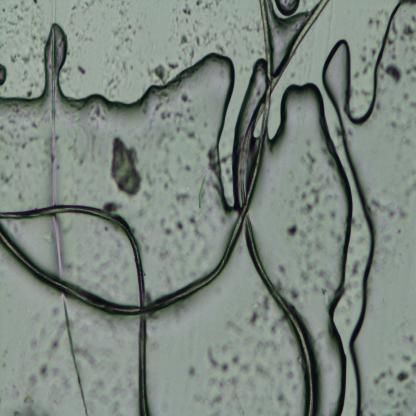Air bubble: (0, 28, 238, 212), (321, 1, 416, 416), (270, 80, 355, 328), (232, 56, 267, 132), (268, 7, 303, 51), (272, 0, 302, 17)
Background material: (233, 0, 332, 415), (107, 132, 143, 199), (114, 3, 142, 68), (297, 238, 324, 282), (92, 378, 128, 409), (145, 54, 185, 81), (206, 373, 238, 400), (101, 314, 127, 347), (46, 322, 67, 360), (250, 293, 271, 331), (22, 372, 39, 416), (52, 364, 72, 400), (300, 211, 325, 238), (371, 196, 396, 220), (179, 31, 202, 57), (252, 336, 275, 359), (64, 262, 88, 284), (75, 346, 98, 368), (219, 151, 233, 186), (318, 268, 336, 295), (301, 186, 320, 211), (298, 149, 316, 174), (70, 120, 82, 156), (198, 174, 210, 208), (207, 148, 219, 181), (153, 244, 173, 262), (385, 62, 401, 84), (21, 46, 40, 64), (92, 106, 111, 124), (400, 20, 415, 42), (252, 362, 270, 380), (207, 346, 221, 369), (186, 214, 202, 234), (212, 37, 228, 57), (58, 65, 73, 85), (154, 90, 168, 111), (94, 275, 108, 296), (388, 20, 400, 44), (102, 198, 118, 216), (226, 318, 242, 336), (291, 186, 303, 210), (197, 0, 216, 15), (35, 360, 49, 380), (107, 78, 122, 96), (284, 356, 296, 378), (0, 59, 9, 87), (147, 169, 161, 187), (174, 111, 184, 136), (25, 79, 38, 98), (69, 5, 78, 31), (185, 107, 198, 125), (246, 18, 261, 33), (6, 49, 20, 65), (396, 205, 409, 222), (177, 193, 190, 210), (164, 166, 174, 188), (270, 314, 282, 332), (26, 31, 42, 44), (318, 172, 328, 192), (396, 370, 410, 384), (160, 108, 174, 122), (374, 370, 387, 385), (286, 223, 301, 236), (180, 160, 192, 175), (26, 134, 46, 143), (28, 337, 40, 352), (363, 59, 374, 75), (176, 218, 187, 234), (180, 3, 191, 19), (352, 259, 361, 278), (402, 397, 412, 414), (278, 262, 288, 279), (162, 224, 176, 236), (288, 288, 300, 302), (352, 216, 362, 232), (181, 93, 194, 105), (184, 130, 196, 143), (0, 170, 11, 184), (331, 230, 342, 244), (405, 181, 416, 195), (277, 390, 287, 405), (388, 44, 398, 59), (188, 364, 198, 379), (210, 394, 222, 406), (360, 88, 372, 100), (404, 378, 416, 389), (401, 351, 412, 363), (42, 230, 53, 242), (76, 62, 86, 75), (241, 361, 251, 374), (39, 322, 47, 338), (376, 85, 388, 95), (142, 189, 152, 201), (346, 295, 353, 311), (373, 34, 381, 48), (232, 354, 240, 368), (12, 383, 19, 399), (406, 65, 416, 76), (328, 209, 338, 220), (193, 394, 204, 404), (390, 399, 400, 409), (402, 137, 412, 147), (255, 406, 265, 416), (112, 284, 122, 294), (370, 46, 378, 58), (144, 292, 152, 304), (390, 118, 399, 128), (351, 106, 361, 115), (52, 306, 60, 317), (77, 156, 88, 164), (410, 362, 416, 376), (375, 18, 382, 30), (345, 278, 352, 290), (408, 334, 416, 344), (378, 9, 388, 17), (396, 389, 405, 397), (368, 17, 374, 29), (277, 279, 283, 291), (383, 235, 393, 242), (329, 158, 336, 168), (388, 365, 394, 376), (352, 88, 360, 96), (357, 236, 366, 243), (19, 141, 28, 148), (282, 409, 291, 416), (388, 386, 394, 396), (411, 44, 416, 56), (278, 363, 283, 375), (30, 122, 40, 128), (345, 318, 352, 326), (387, 352, 394, 360), (18, 192, 23, 203), (360, 54, 366, 62), (376, 102, 382, 110), (2, 349, 8, 357), (396, 226, 402, 234), (349, 128, 354, 137), (33, 1, 38, 10), (353, 72, 360, 78), (221, 366, 228, 372), (369, 410, 376, 416), (404, 92, 409, 100), (411, 14, 416, 22), (410, 102, 416, 108), (396, 411, 403, 416), (2, 360, 6, 368), (15, 411, 21, 416), (363, 45, 367, 52), (337, 128, 340, 137), (223, 344, 226, 352), (273, 188, 275, 194)
Glass filter fibre: (62, 294, 88, 416), (50, 213, 64, 276), (52, 27, 56, 206), (52, 0, 57, 23)
Microfibre: (0, 0, 273, 319), (0, 203, 154, 414), (233, 396, 244, 416)
